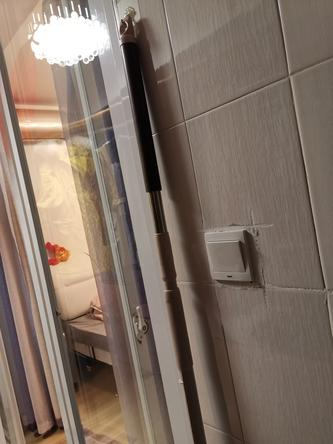switch: (206, 235, 248, 276)
